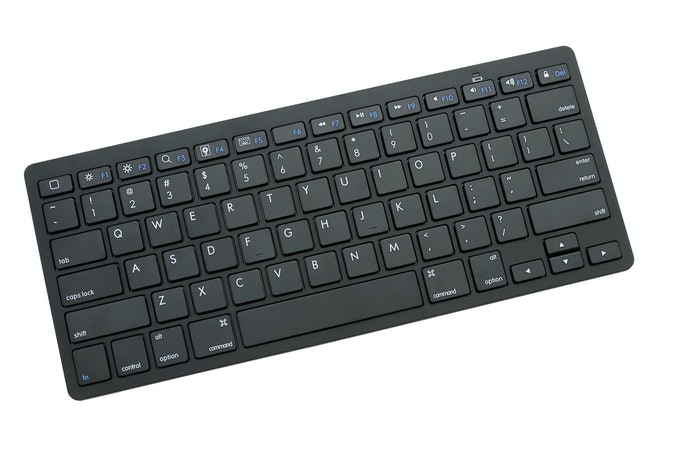keyboard: (18, 36, 642, 410)
